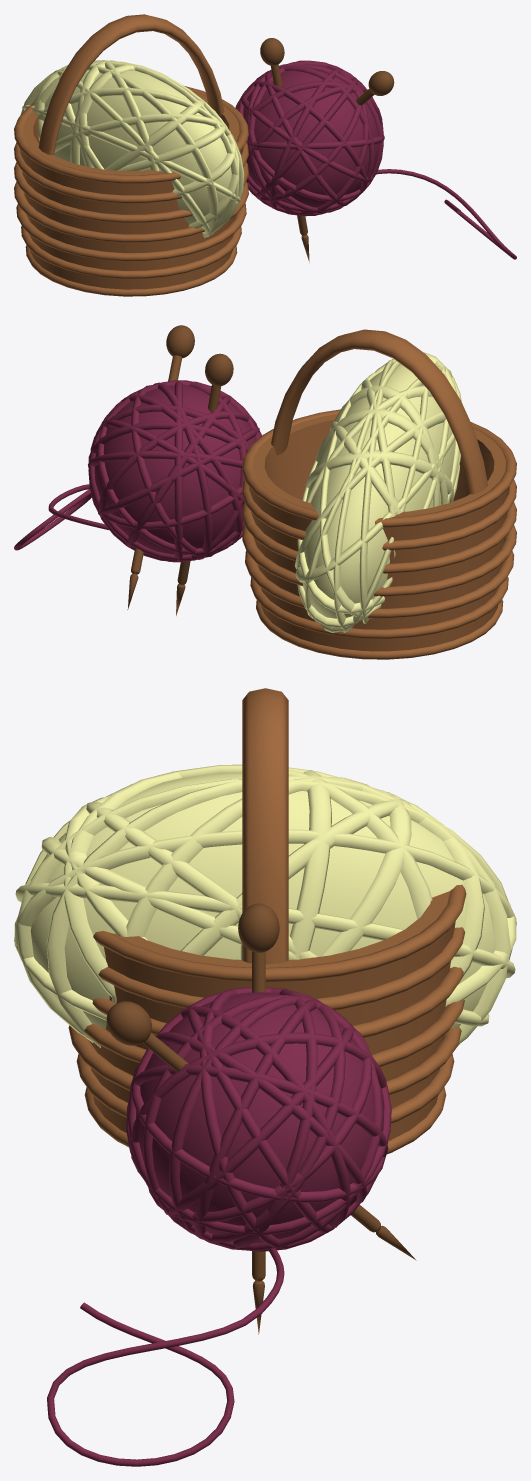
Rendered from Kit_Tejido_Teresa.fbx.
3 views of the same model, one above another, from view 1: azimuth 30°, elevation 25°; view 2: azimuth 150°, elevation 25°; view 3: azimuth 270°, elevation 25° (orthographic). The views are drawn at different scales.
Visible parts, largest first — view 1: Estambre_blanco, Canasta_cuerpo, Hilo_ovillo_1.014, Estambre_vino, Agarradera_canasta, Tira_horizontal_01.001, Tira_horizontal_01.005, Tira_horizontal_01.006, Tira_horizontal_01.002, Tira_horizontal_01.003, Tira_horizontal_01, Tira_horizontal_01.004 (+3 smaller); view 2: Estambre_blanco, Canasta_cuerpo, Hilo_ovillo_1.014, Estambre_vino, Agarradera_canasta, Tira_horizontal_01.005, Tira_horizontal_01.006, Tira_horizontal_01.002, Tira_horizontal_01.001, Tira_horizontal_01.003, Tira_horizontal_01, Tira_horizontal_01.004 (+3 smaller); view 3: Estambre_blanco, Hilo_ovillo_1.014, Estambre_vino, Canasta_cuerpo, Agarradera_canasta, Tira_horizontal_01.005, Hebra_suelta, Tira_horizontal_01.004, Aguja_01, Aguja_02, Tira_horizontal_01.001, Tira_horizontal_01.002 (+3 smaller).
Boxes of the visible parts, left/top/right/bottom form: Estambre_blanco: left=20, top=60, right=244, bottom=237; Canasta_cuerpo: left=20, top=92, right=243, bottom=289; Hilo_ovillo_1.014: left=235, top=60, right=384, bottom=216; Estambre_vino: left=243, top=65, right=378, bottom=208; Agarradera_canasta: left=38, top=14, right=224, bottom=155; Tira_horizontal_01.001: left=16, top=204, right=246, bottom=261; Tira_horizontal_01.005: left=14, top=86, right=248, bottom=183; Tira_horizontal_01.006: left=21, top=226, right=241, bottom=278; Tira_horizontal_01.002: left=14, top=181, right=248, bottom=242; Tira_horizontal_01.003: left=14, top=162, right=248, bottom=222; Tira_horizontal_01: left=25, top=245, right=237, bottom=296; Tira_horizontal_01.004: left=14, top=142, right=248, bottom=203; Estambre_blanco: left=294, top=352, right=461, bottom=632; Canasta_cuerpo: left=248, top=414, right=509, bottom=651; Hilo_ovillo_1.014: left=88, top=380, right=261, bottom=562; Estambre_vino: left=94, top=385, right=255, bottom=554; Agarradera_canasta: left=271, top=329, right=487, bottom=494; Tira_horizontal_01.005: left=242, top=409, right=516, bottom=527; Tira_horizontal_01.006: left=250, top=577, right=508, bottom=638; Tira_horizontal_01.002: left=242, top=525, right=516, bottom=596; Tira_horizontal_01.001: left=245, top=551, right=514, bottom=618; Tira_horizontal_01.003: left=242, top=502, right=516, bottom=573; Tira_horizontal_01: left=256, top=599, right=503, bottom=659; Tira_horizontal_01.004: left=242, top=479, right=516, bottom=550; Estambre_blanco: left=14, top=764, right=516, bottom=1047; Hilo_ovillo_1.014: left=126, top=987, right=391, bottom=1251; Estambre_vino: left=136, top=992, right=384, bottom=1243; Canasta_cuerpo: left=88, top=891, right=455, bottom=1141; Agarradera_canasta: left=242, top=688, right=288, bottom=964; Tira_horizontal_01.005: left=93, top=884, right=466, bottom=982; Hebra_suelta: left=47, top=1248, right=284, bottom=1466; Tira_horizontal_01.004: left=98, top=927, right=465, bottom=1010; Aguja_01: left=106, top=1001, right=416, bottom=1260; Aguja_02: left=238, top=903, right=279, bottom=1334; Tira_horizontal_01.001: left=68, top=1025, right=461, bottom=1094; Tira_horizontal_01.002: left=84, top=1000, right=464, bottom=1066.
Size of the model in its own units: 37.38 by 23.43 by 21.78.
